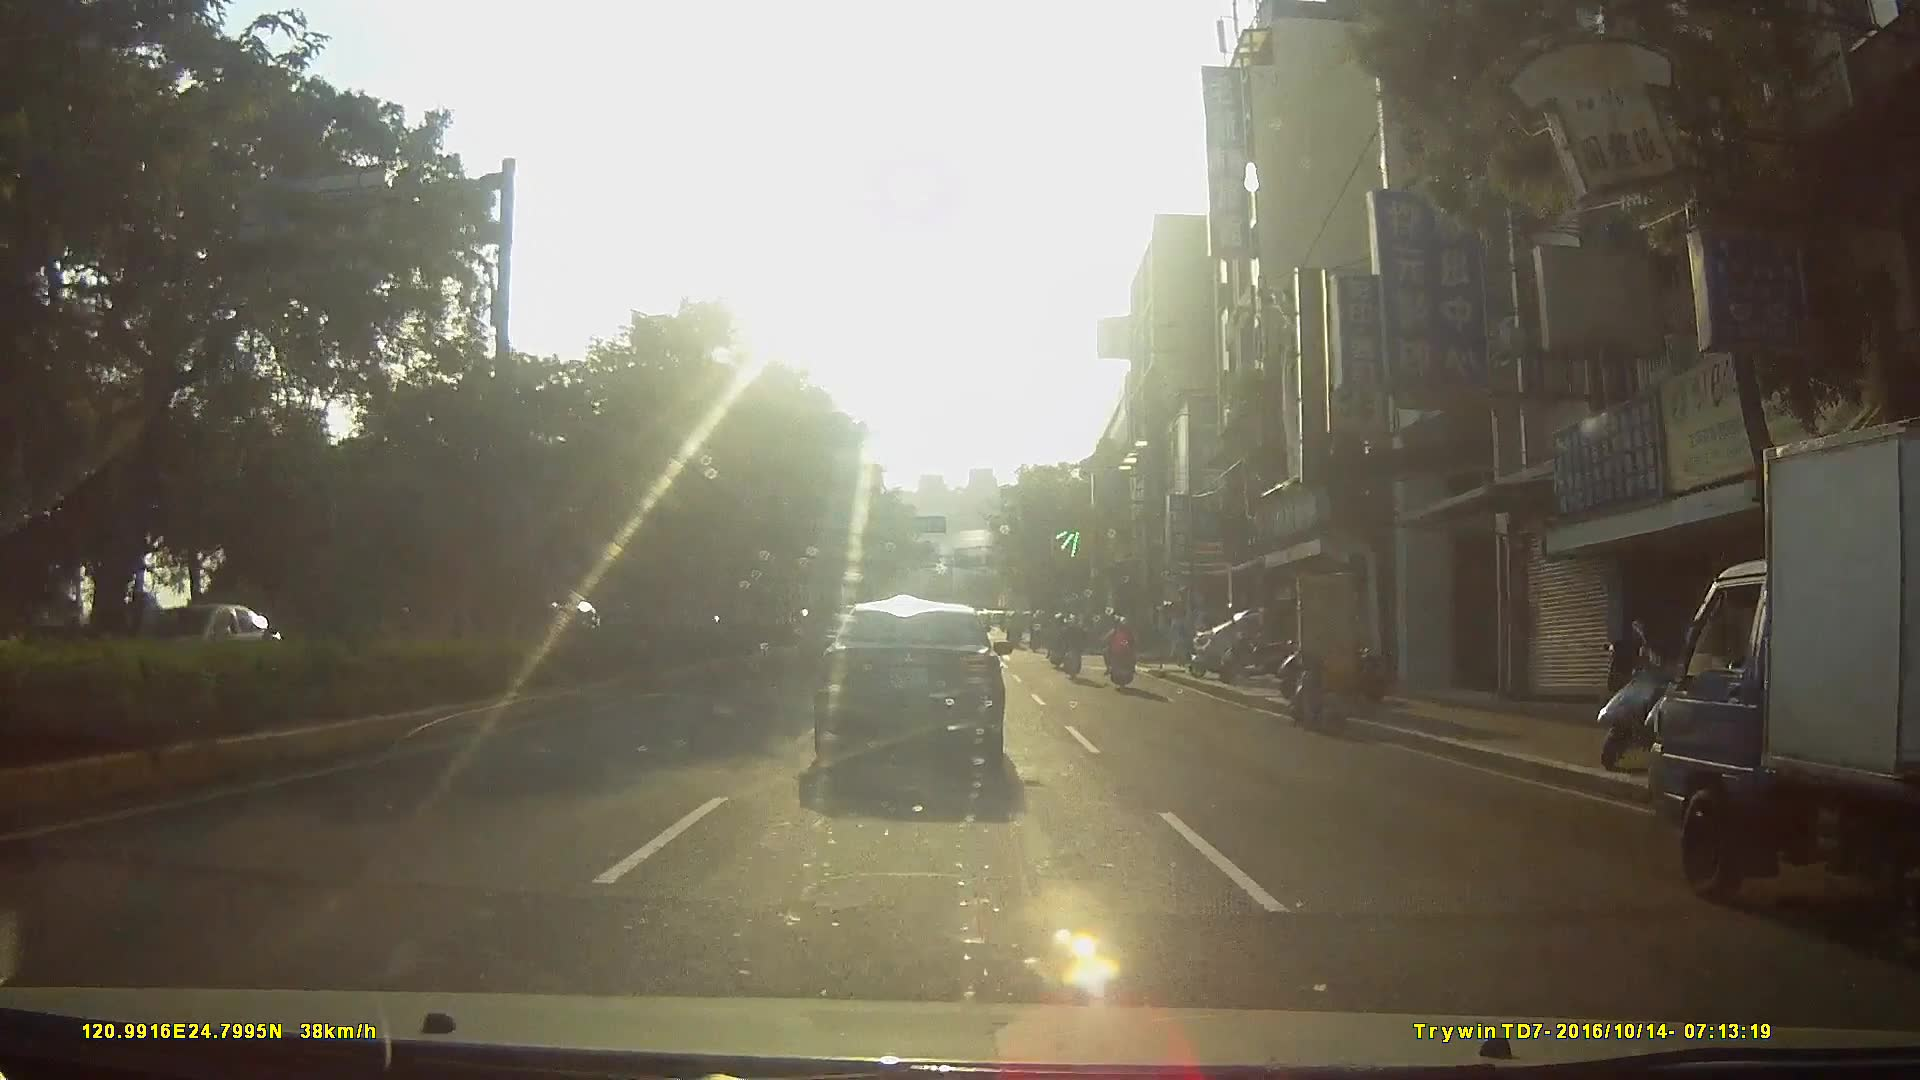rider: (1105, 617, 1139, 693), (1061, 611, 1087, 679), (1049, 610, 1071, 670)
vehicle: (1626, 403, 1920, 928), (809, 596, 1017, 782), (86, 599, 277, 688)
